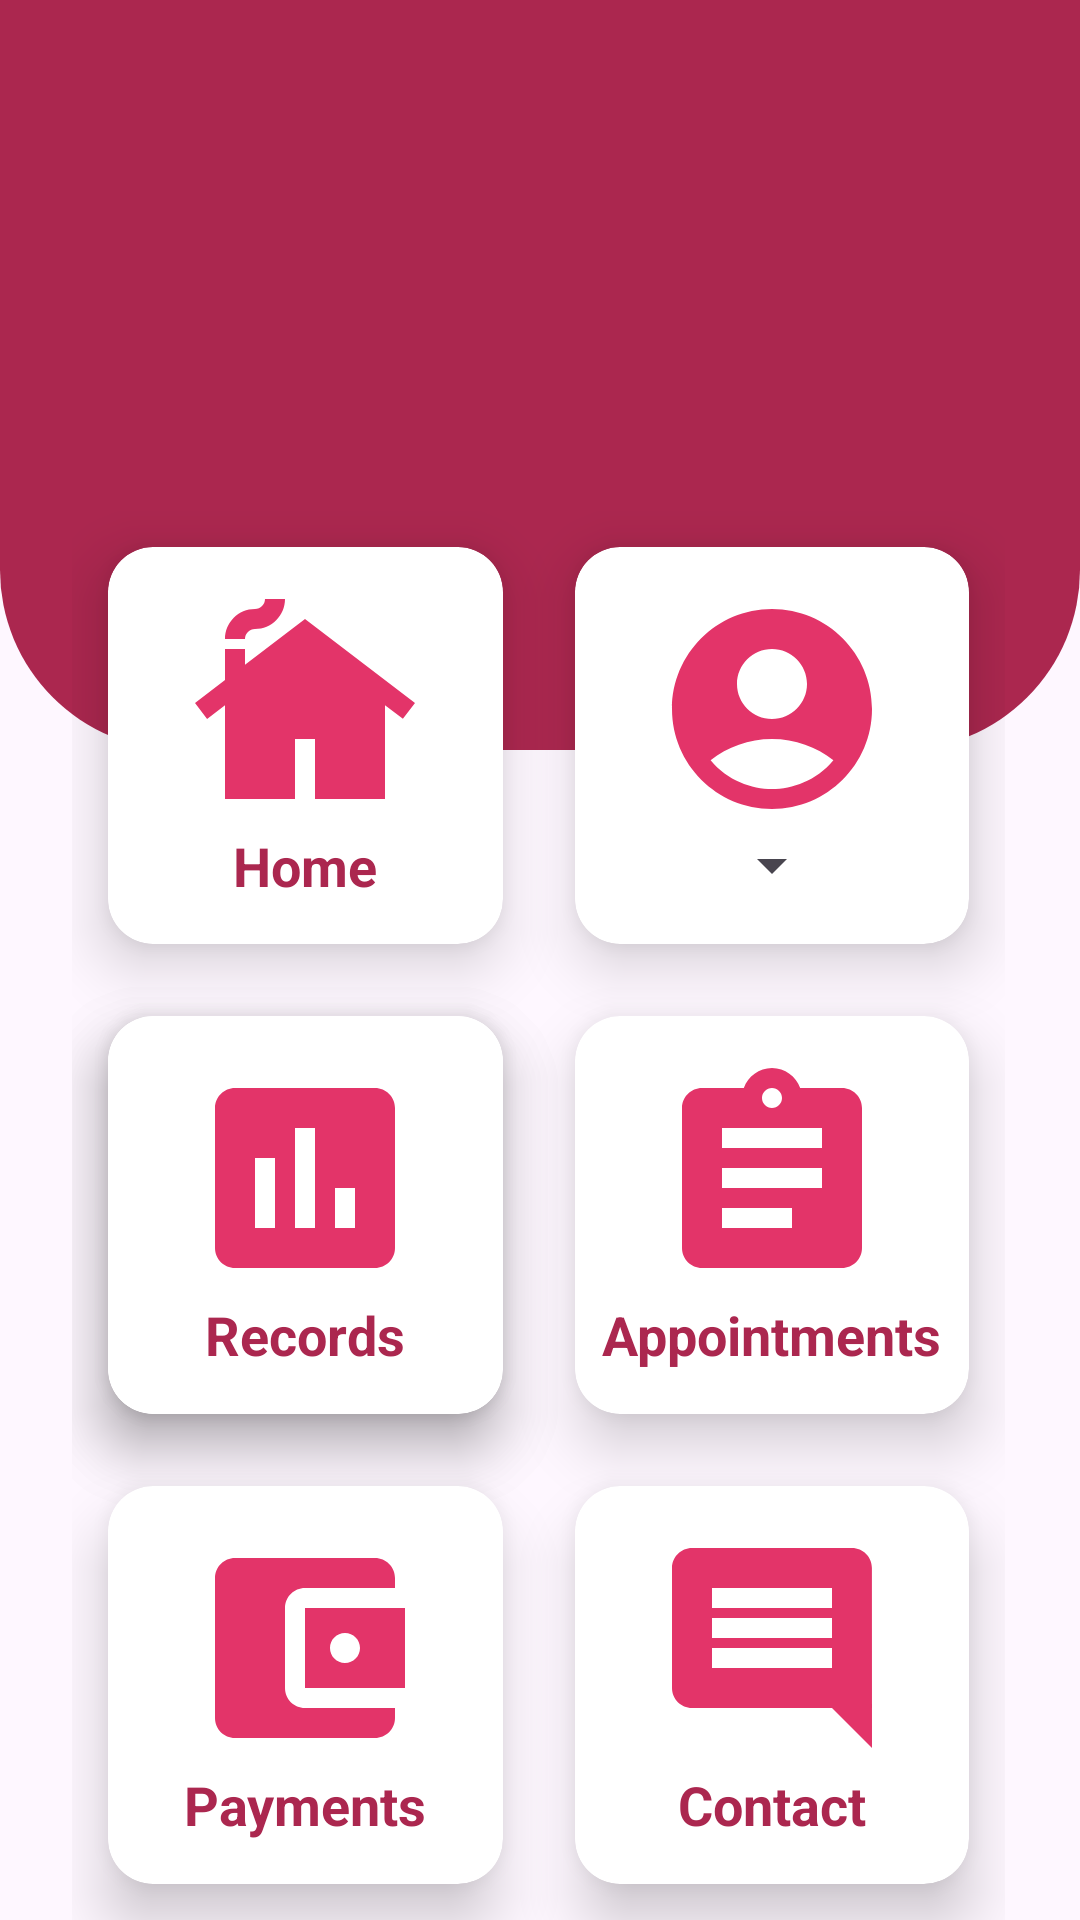

Icons on this 1080x1920 Android screen, each with its box as (x1, y1, x2, y2):
account balance wallet: (215, 1558, 405, 1738)
account circle: (672, 609, 872, 809)
comment chat: (672, 1548, 872, 1748)
